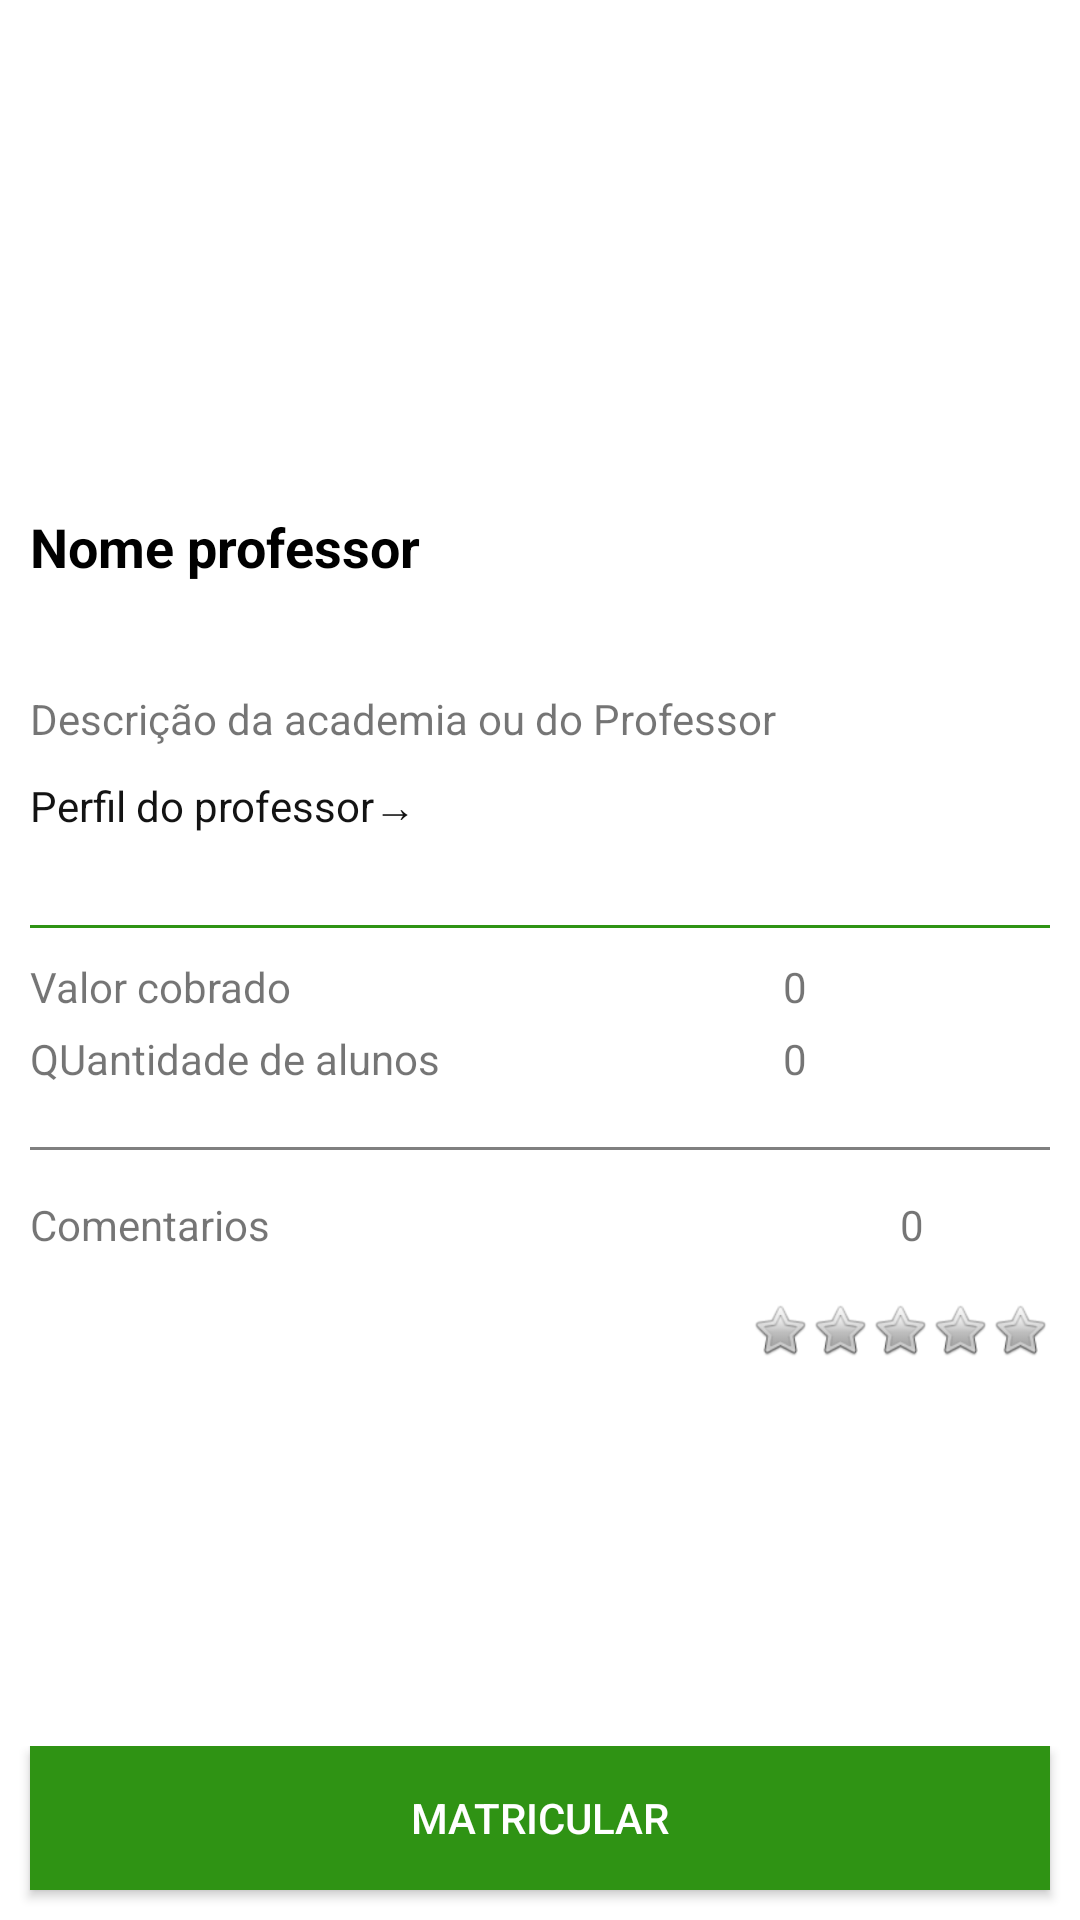

Locate icon controls on the screen. Image size 1080x1920, boxes as (x1, y1, x2, y2).
star off: (755, 1306, 806, 1355), (815, 1306, 866, 1355), (875, 1306, 926, 1355), (935, 1306, 986, 1355), (995, 1306, 1046, 1355)
